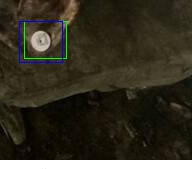text: (24, 21, 66, 58)
